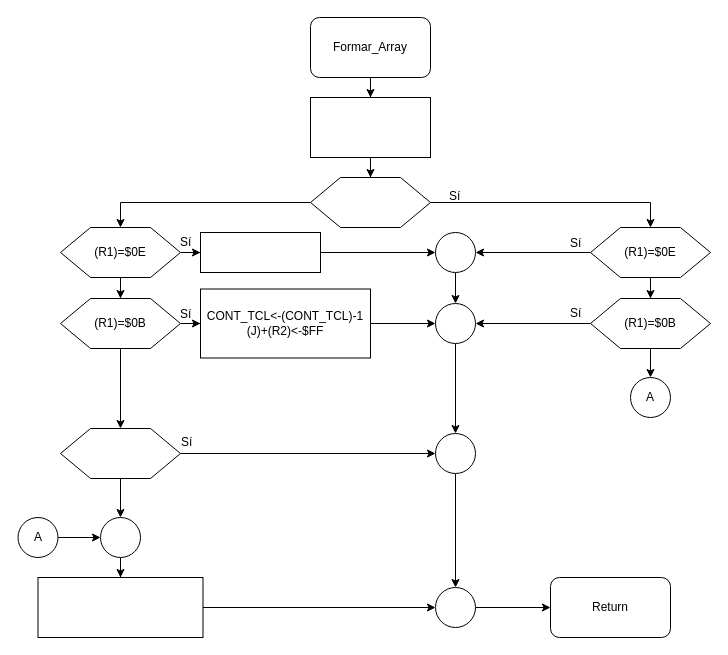
The diagram is 728 pixels wide and 655 high, and some of its shapes have lost their labels. Each missing label, with the box of its shape:
(J)+(R2)<-(TECLA_IN) CONT_TCL<-(CONT_TCL)+1: (37, 576, 203, 638)
(R2)=(MAX_TCL): (60, 428, 180, 478)
(R2)=0: (310, 176, 430, 228)
Array_OK<-1 CONT_TCL<-0: (200, 232, 320, 272)
R2<-(CONT_TCL) J<-Num_Array R1<-(TECLA_IN): (310, 96, 430, 158)
